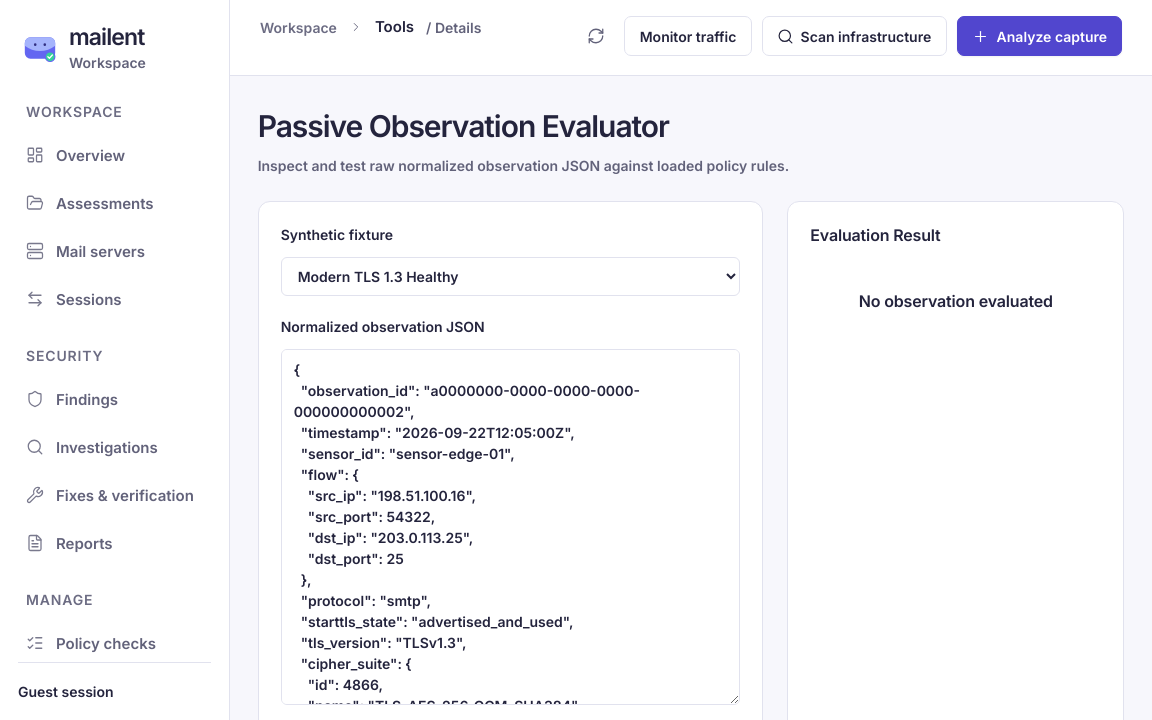
Test case: observation console › rejects invalid JSON locally and malformed API responses visibly
Clear the text box labelled "Normalized observation JSON" at [510, 527], box [281,349,740,705]
(page scrolled)
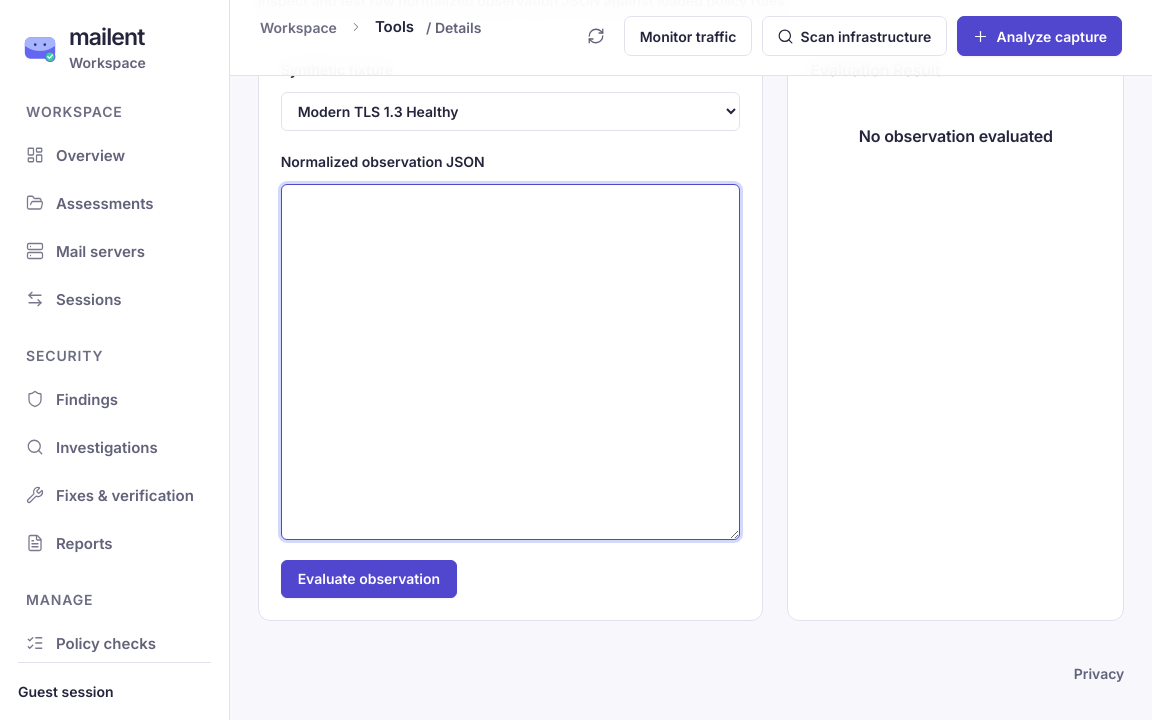
Click the button "Evaluate observation" at [369, 579], box [281,560,457,598]
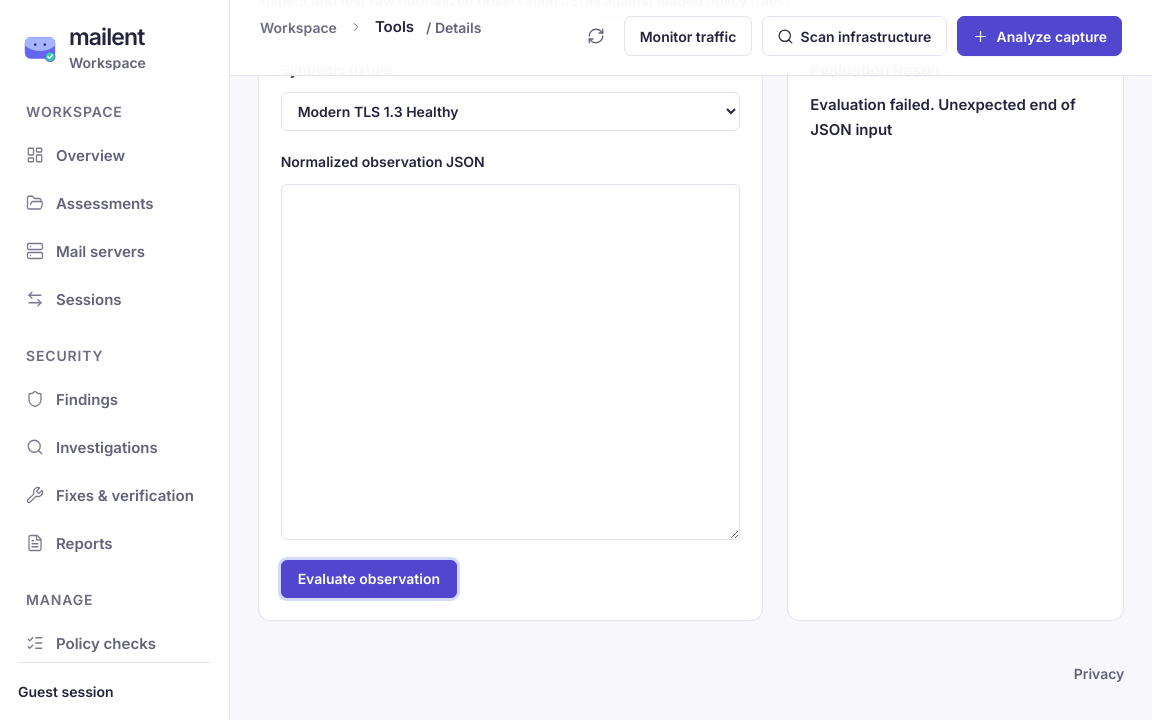
Result: the message shows "Evaluation failed" at [810,95,938,114]
Select "Modern TLS 1.3 Healthy" in the dropdown labelled "Synthetic fixture" at [510, 112], box [281,92,740,131]
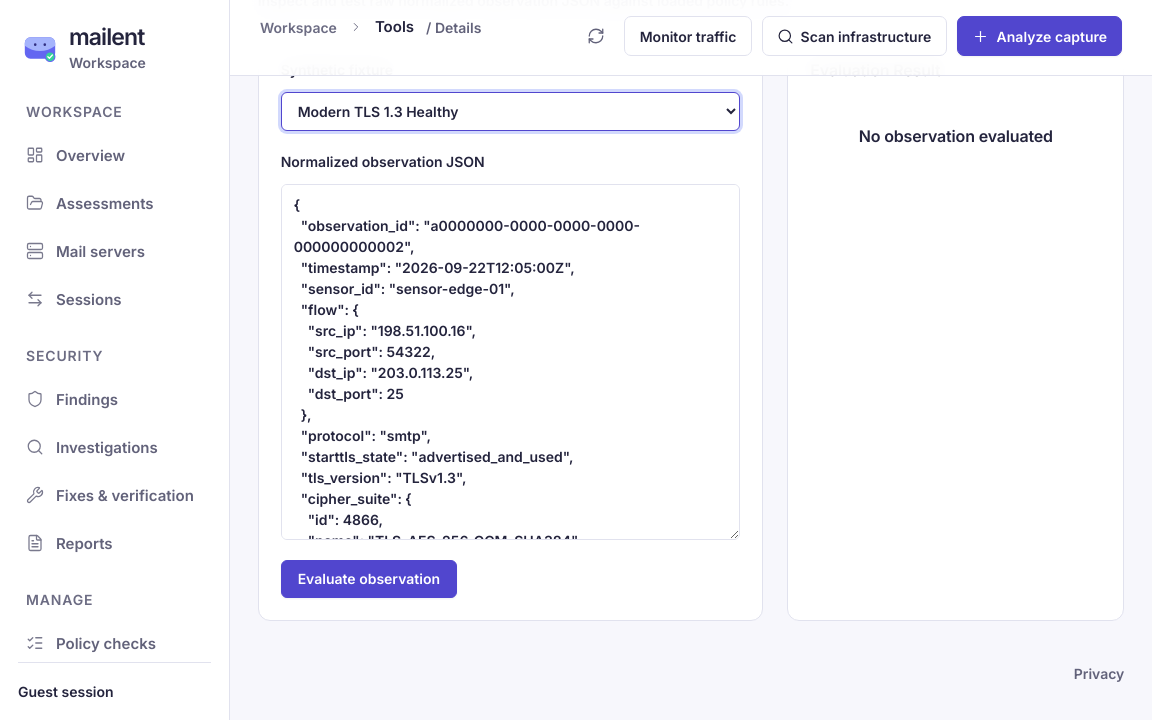
Click the button "Evaluate observation" at [369, 579], box [281,560,457,598]
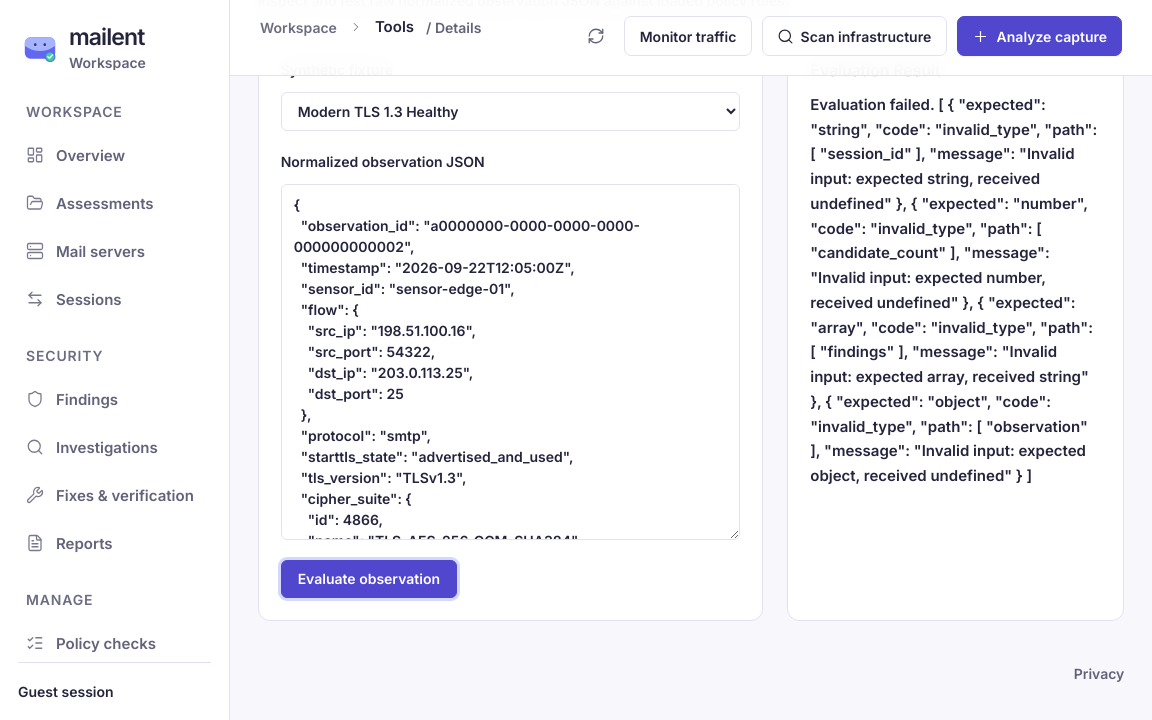
Result: the message shows "Evaluation failed" at [810,95,938,114]
